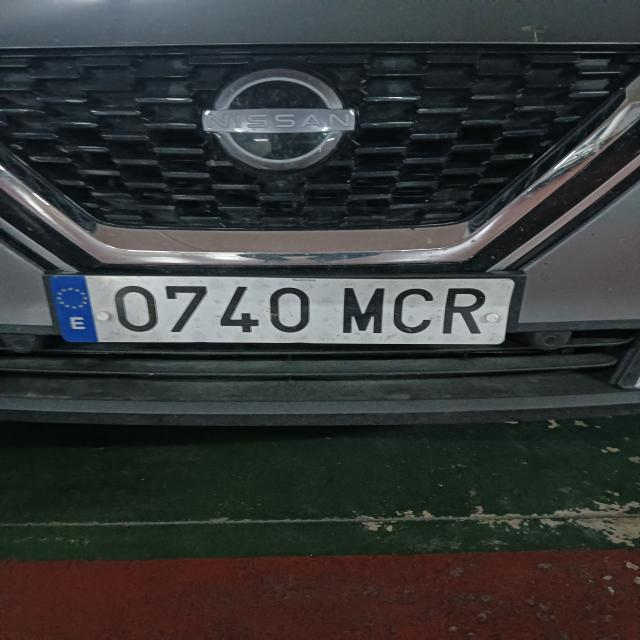license_plate-34Td: (49, 275, 515, 345)
